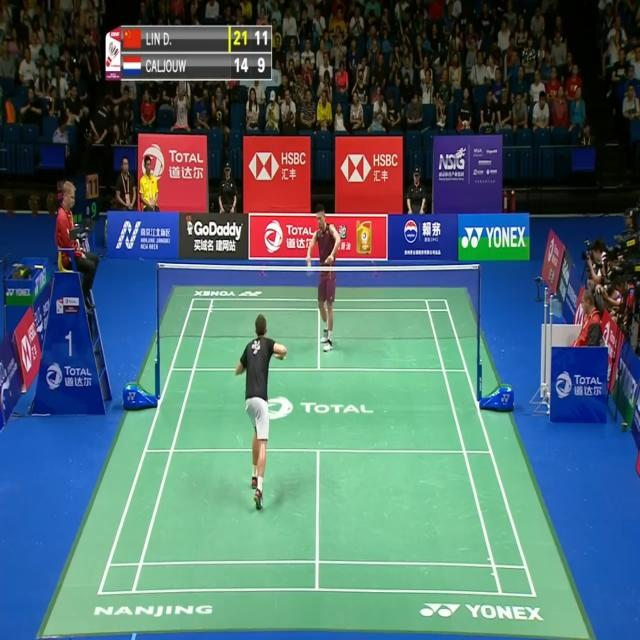Player1: (232, 310, 290, 521)
Player2: (300, 207, 346, 357)
